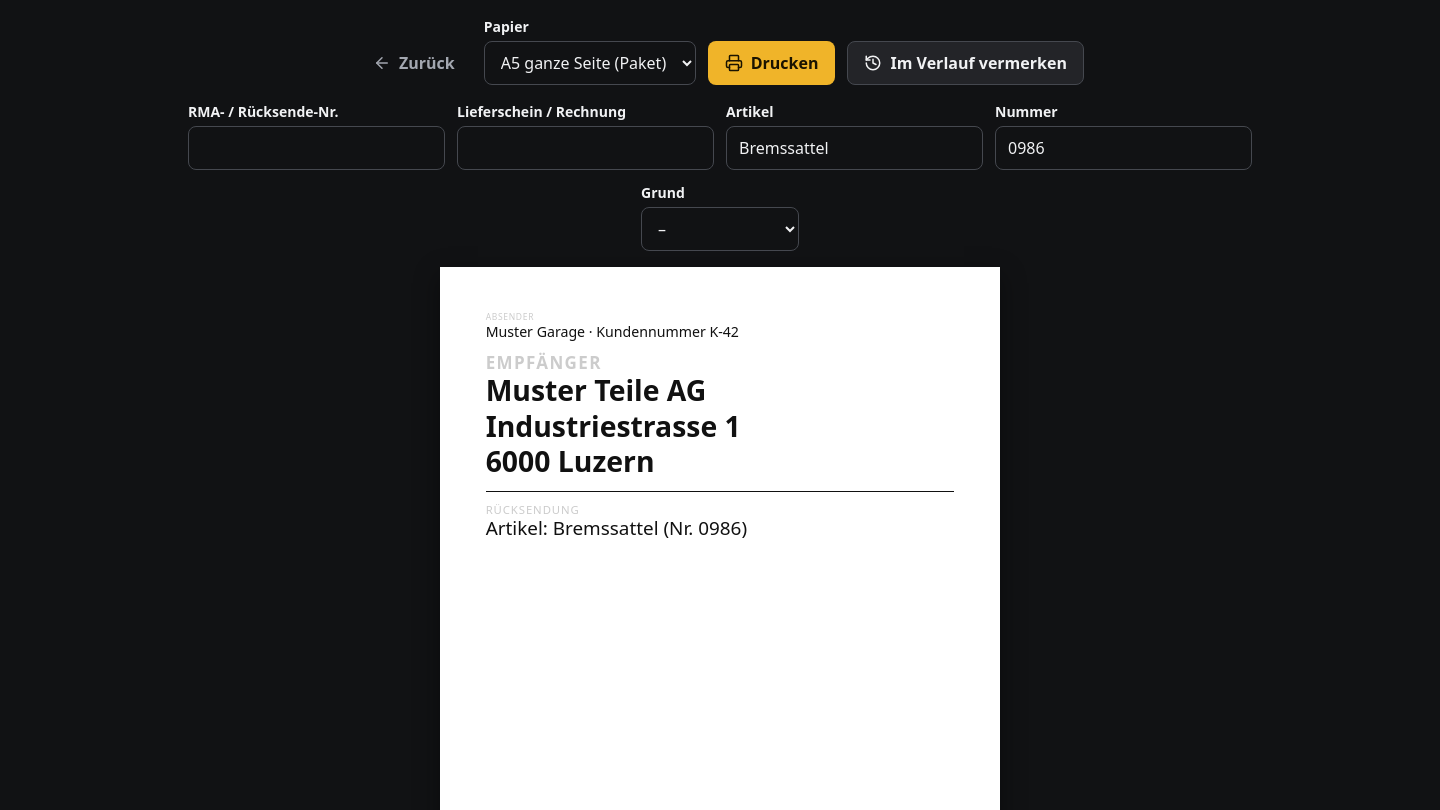
Test: ReturnLabelPage (FB-31) › the part of the position comes along – and can be typed over or cleared
Expected: the text "Artikel: Bremssattel (Nr. 0986)" is shown, 486,515 -> 747,541
Clear the field labelled "Artikel": (854, 148) 726,126 -> 983,170
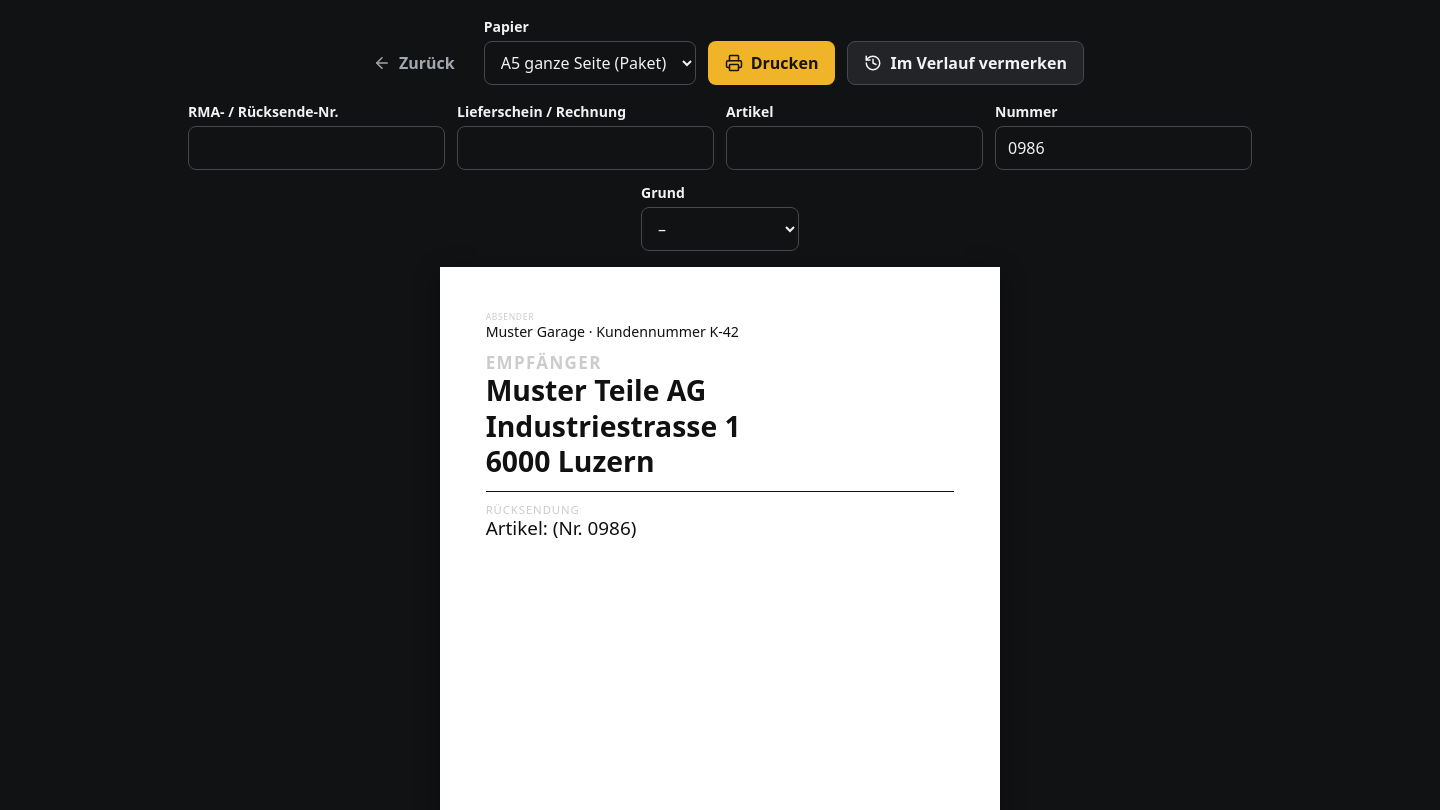
Select "defekt" in the dropdown labelled "Grund": (720, 229) 641,207 -> 799,251
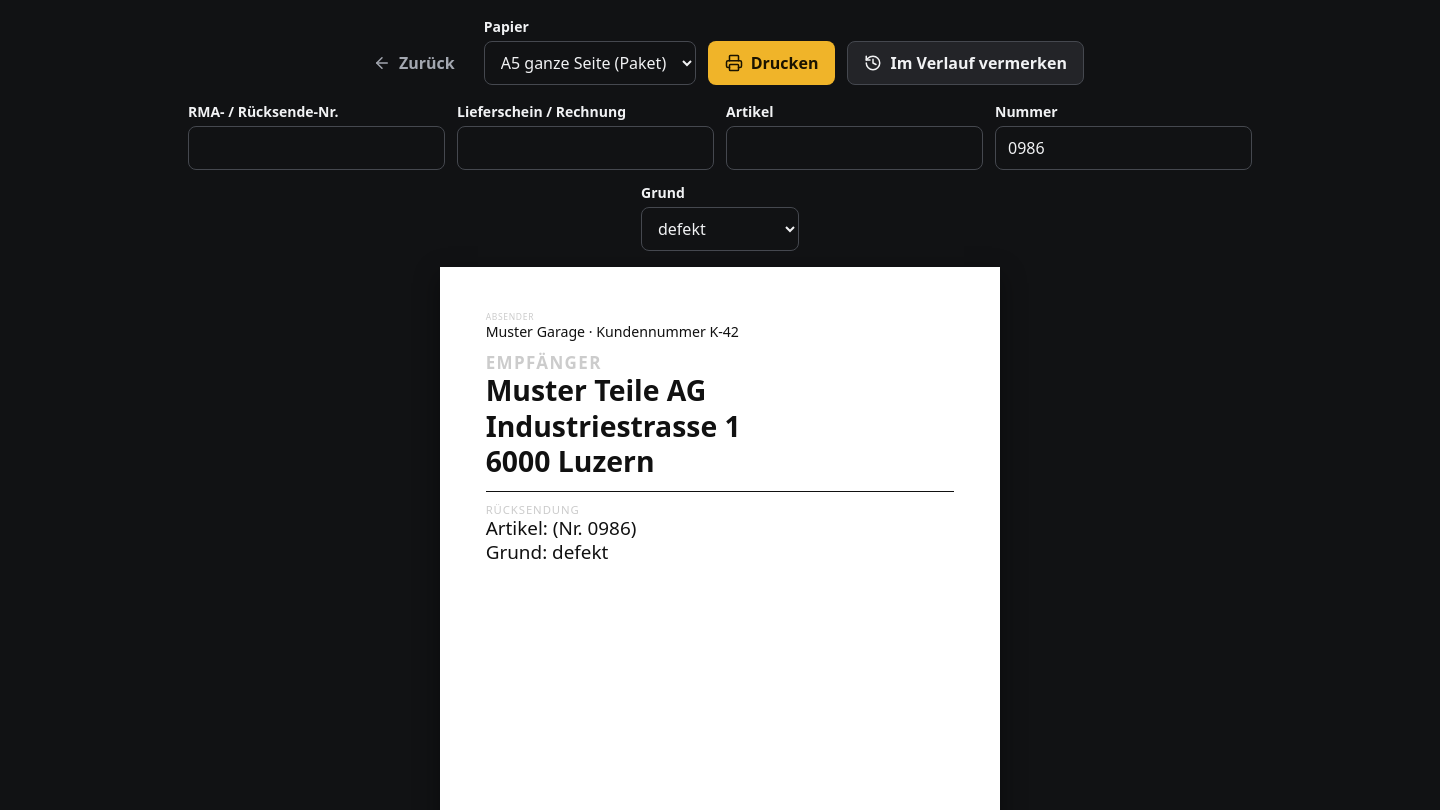
Expected: the text "Muster Garage · Kundennummer K-42" is shown, 486,322 -> 739,341
Expected: the text "Artikel: (Nr. 0986)" is shown, 486,515 -> 636,541
Expected: the text "Grund: defekt" is shown, 486,539 -> 608,565
